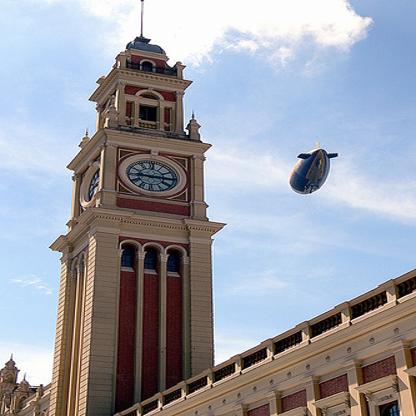Airship: (288, 140, 340, 203)
